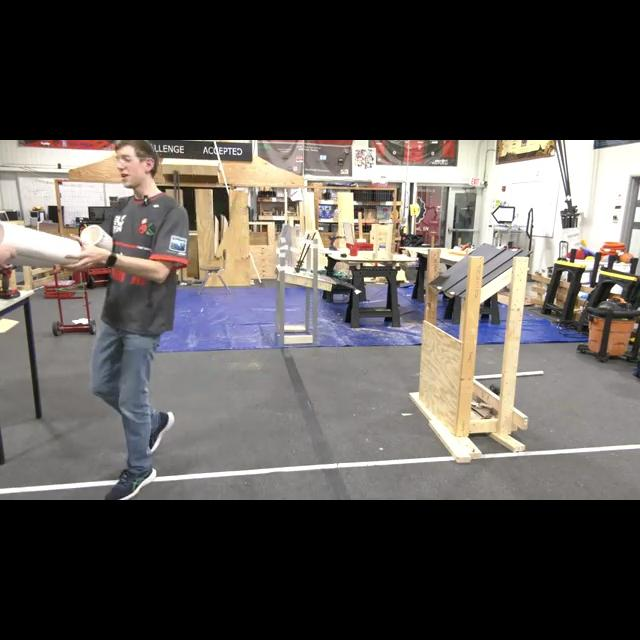CORAL: (0, 220, 82, 268), (81, 226, 113, 254)
